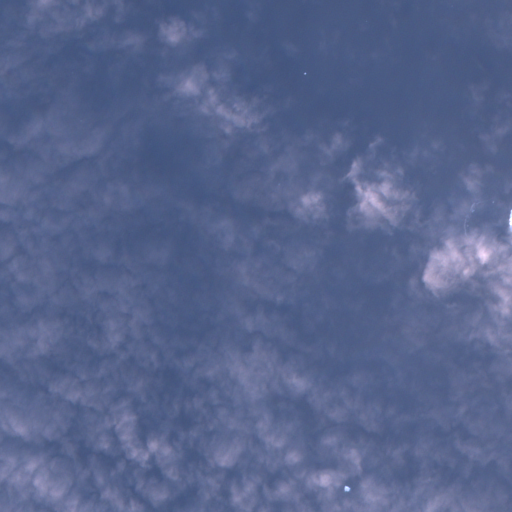Iceberg: (344, 485, 350, 491), (303, 72, 306, 74)
